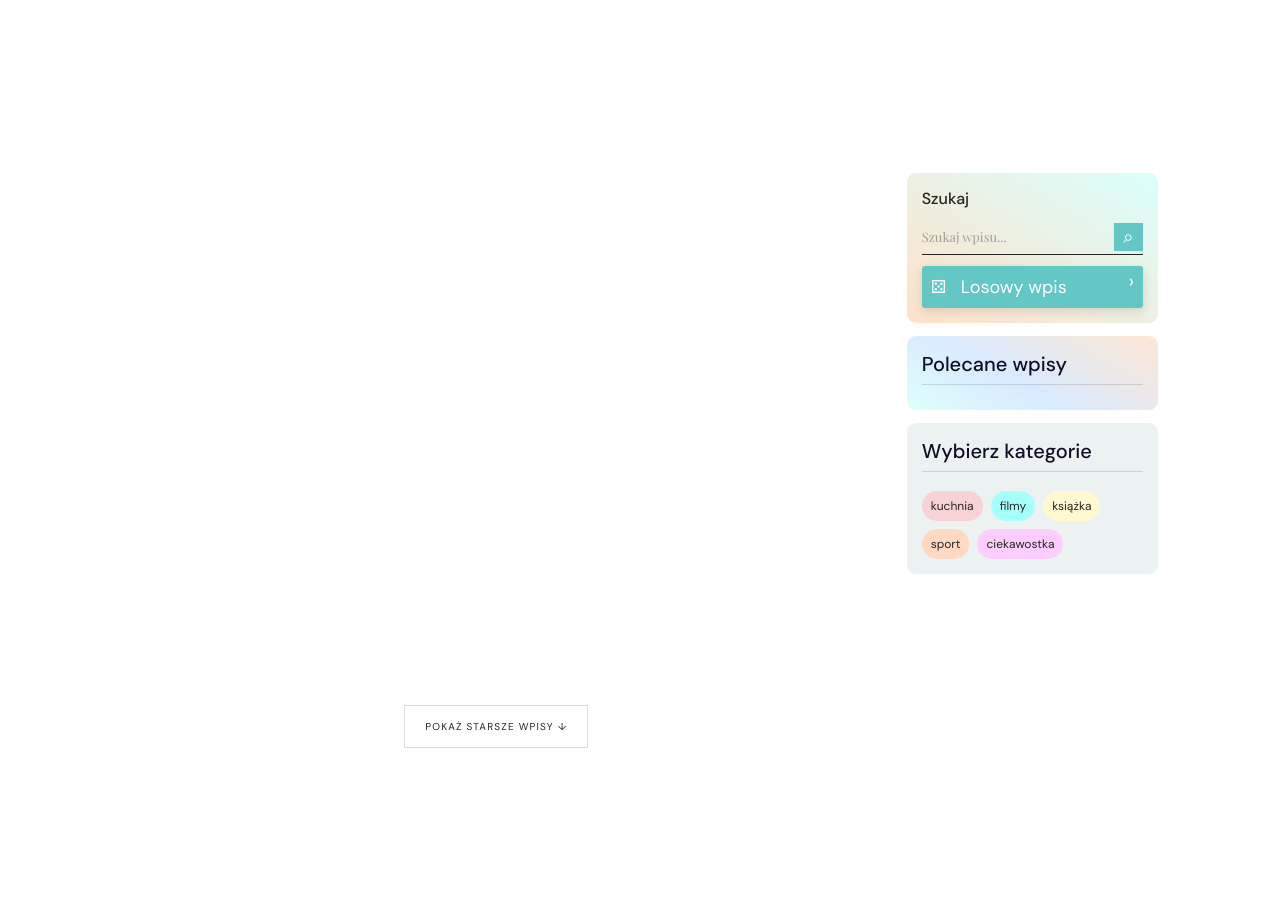
Test case: HomePage › shows an empty state when no post matches the search
This screenshot has width=1280, height=900.
In the field labelled "Szukaj": (1018, 236) [922,219,1114,254], type "brak takiego wpisu"
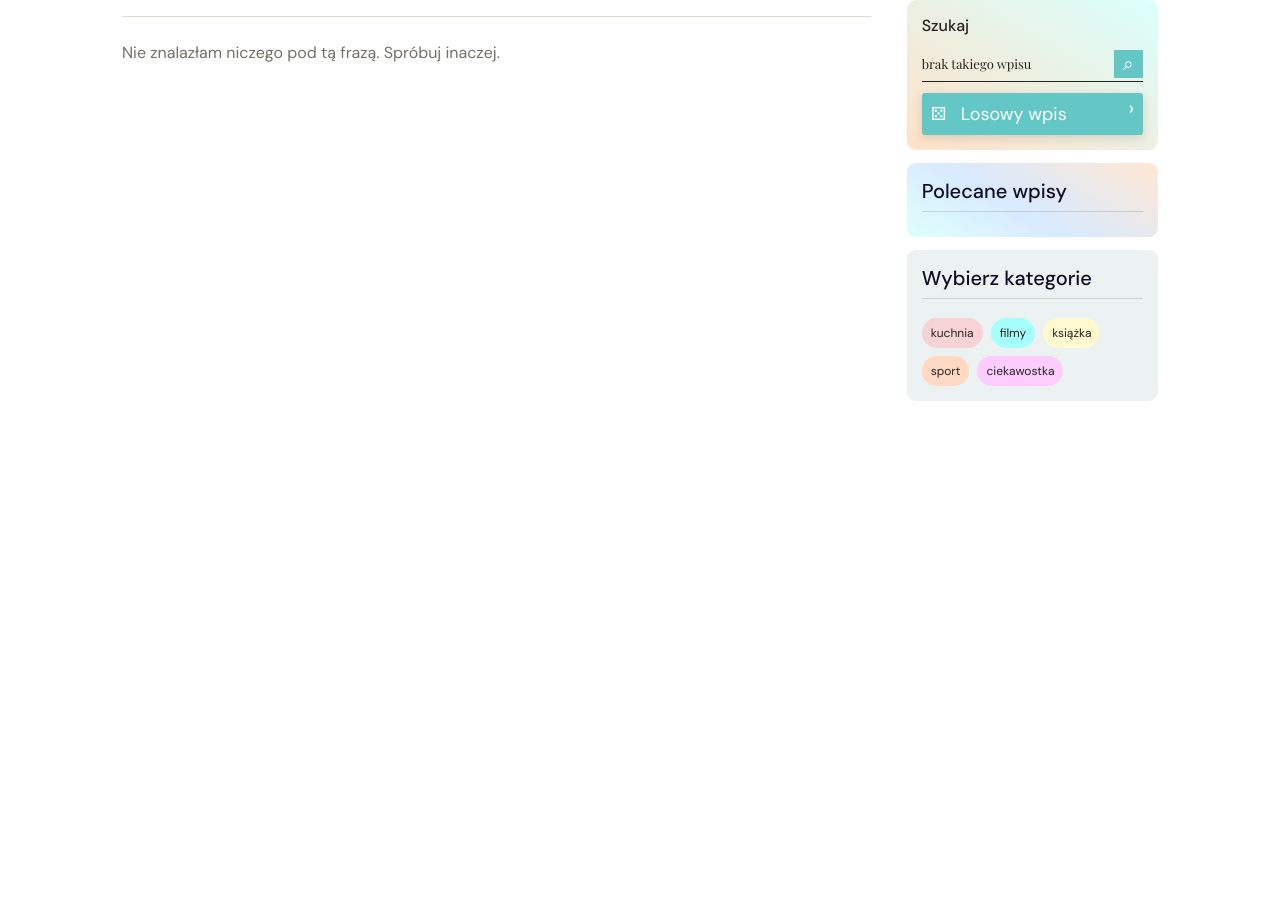
Check: the text "Nie znalazłam niczego pod tą frazą. Spróbuj inaczej." is shown, box [122,16,871,63]
